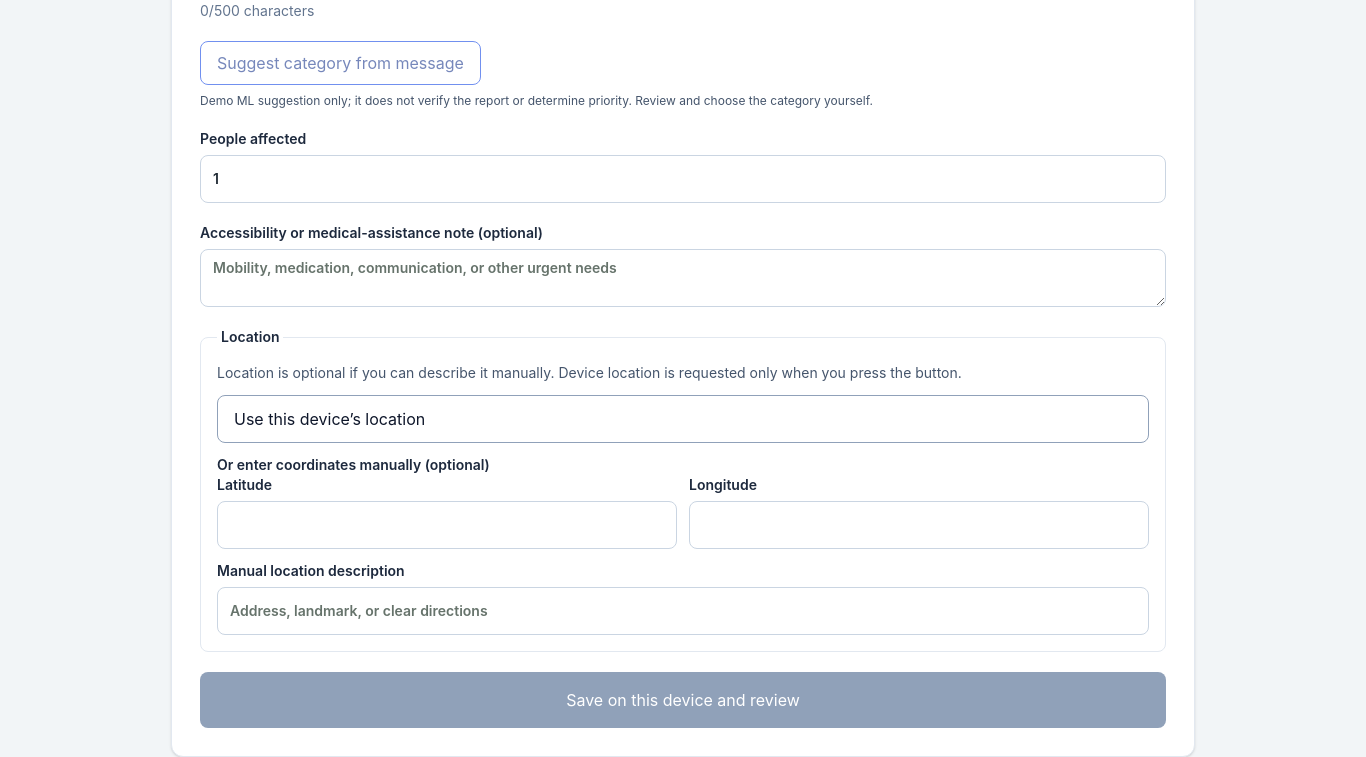
offline emergency mode › captures device coordinates with the browser-reported accuracy and timestamp
(page scrolled)
Click the button "Use this device’s location" at (330, 419), box [217,395,1149,443]
(page scrolled)
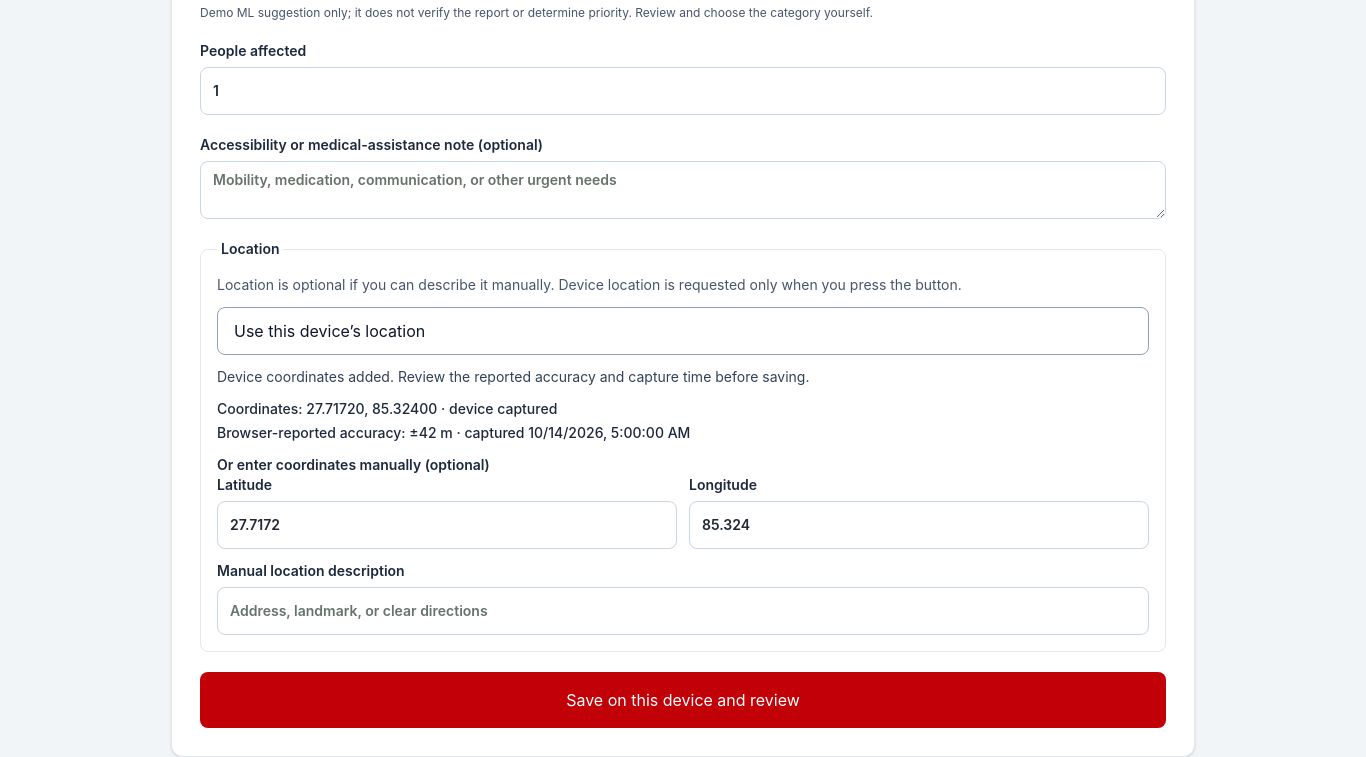
Check: the text "Browser-reported accuracy: ±42 m" is shown, box [217,424,690,441]
Click the button "Save on this device and review" at (683, 700), box [200,672,1166,728]
(page scrolled)
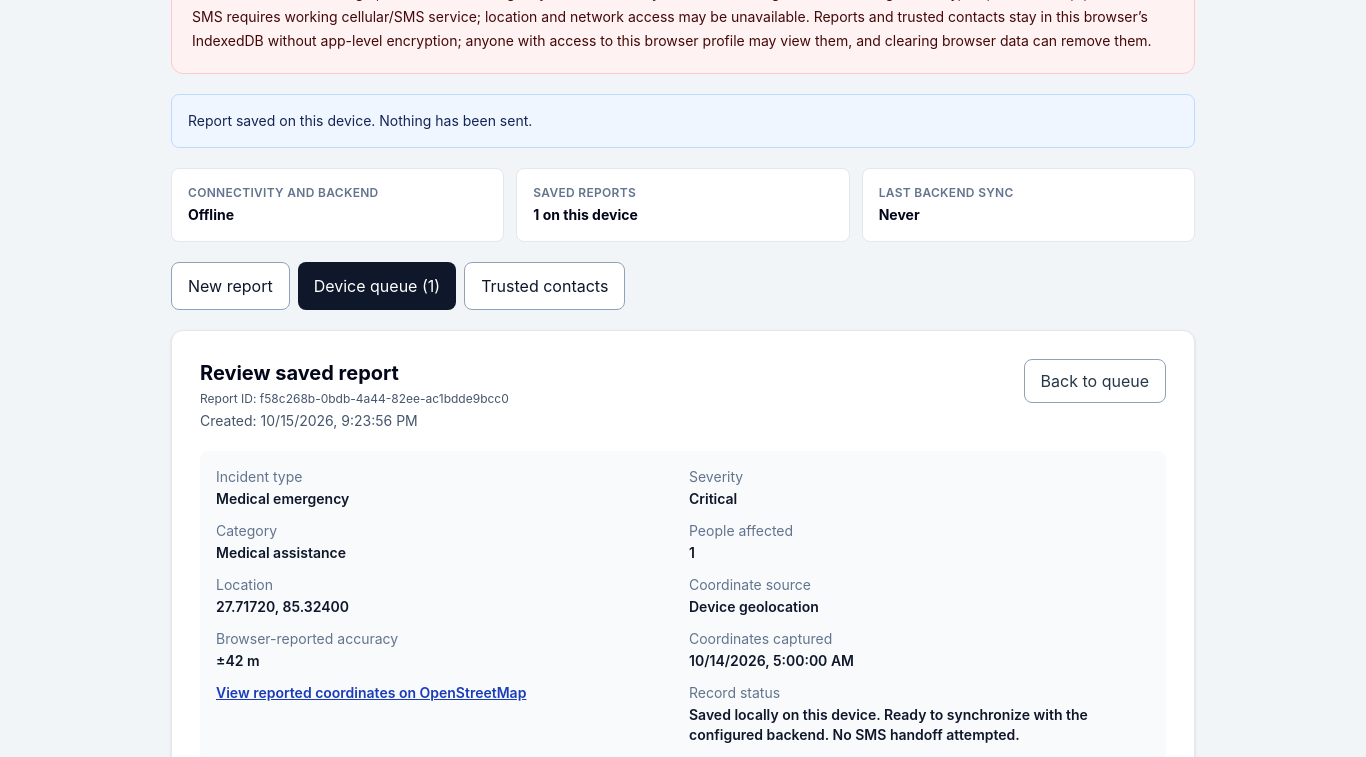
Check: the heading "Review saved report" is shown, box [200,361,399,385]
